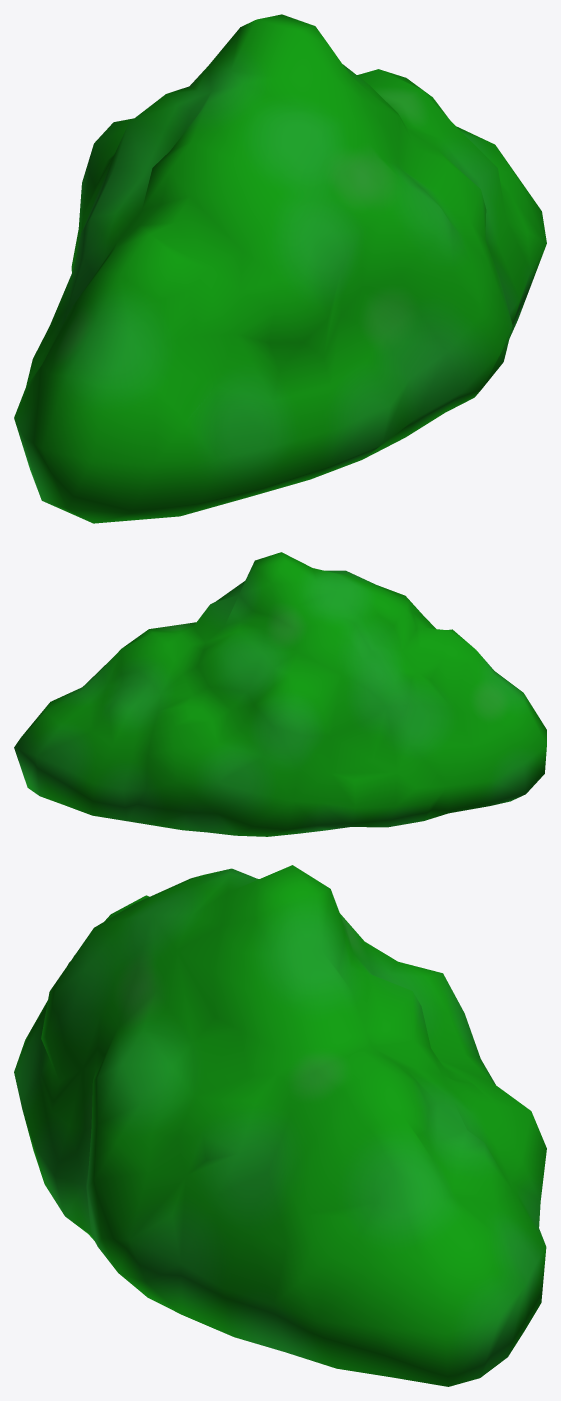
The model's file is Arbusto_Texturizado.fbx.
The picture shows the model from 3 angles, top to bottom: view 1: azimuth 30°, elevation 25°; view 2: azimuth 150°, elevation 25°; view 3: azimuth 270°, elevation 25°; orthographic projection. The views are drawn at different scales.
Visible parts, largest first — view 1: Arbusto.007; view 2: Arbusto.007; view 3: Arbusto.007.
Part boxes in pixels (bbox=[...]): Arbusto.007: bbox=[14, 14, 546, 523]; Arbusto.007: bbox=[14, 552, 546, 836]; Arbusto.007: bbox=[14, 865, 546, 1386].
Bounding box in the file's own units: 1562 × 843 × 1108.
